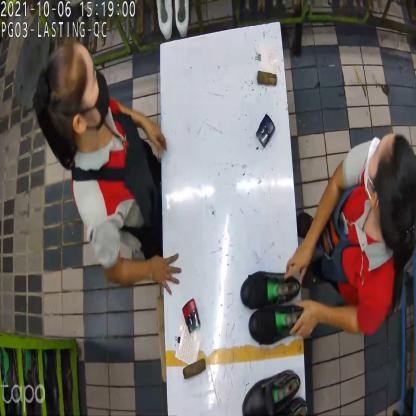shoes: (239, 267, 306, 346), (243, 368, 309, 415)
stamp: (184, 296, 202, 334), (258, 112, 275, 152)
